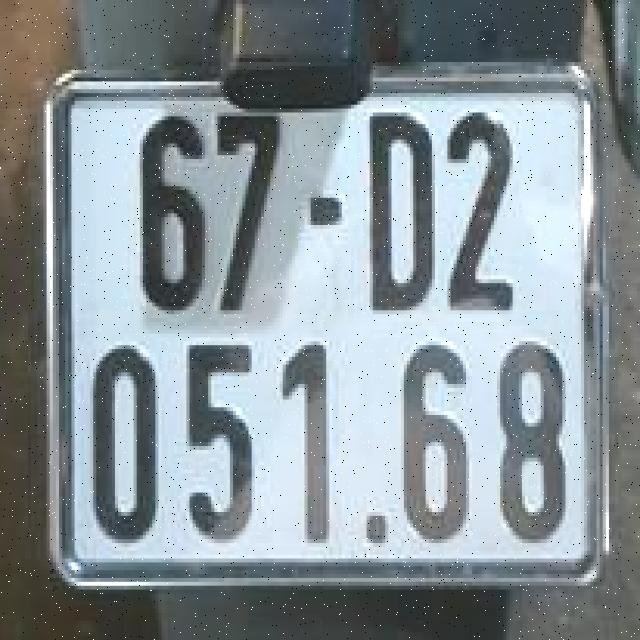0: (78, 335, 164, 549)
1: (278, 328, 340, 556)
2: (446, 97, 523, 318)
5: (177, 332, 264, 552)
6: (398, 337, 478, 547), (133, 113, 214, 314)
7: (211, 101, 289, 326)
8: (492, 333, 582, 547)
D: (356, 99, 452, 332)
